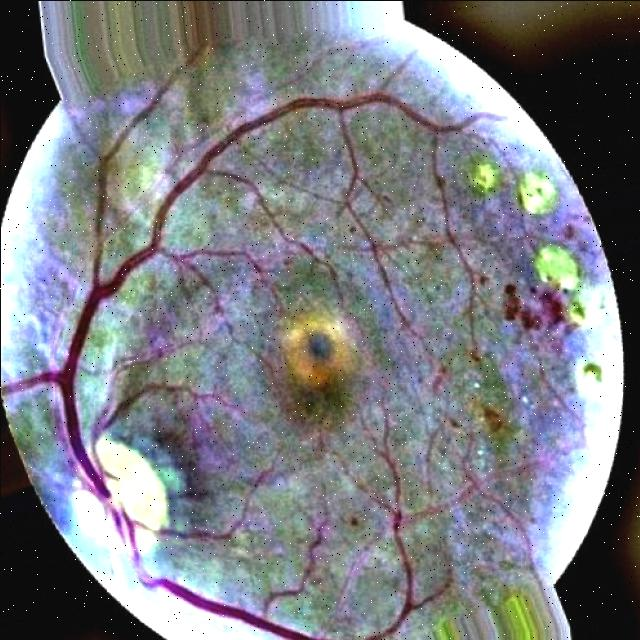Nerves: (0, 92, 479, 640), (363, 410, 450, 640), (95, 84, 169, 218)
Optic Disk: (93, 435, 168, 559), (61, 486, 134, 588)
